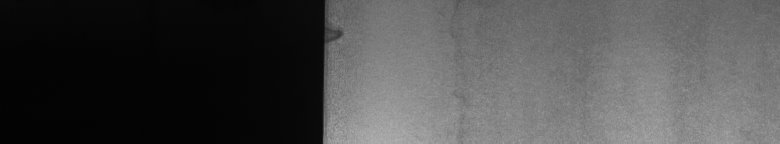hb: (336, 17, 351, 48)
